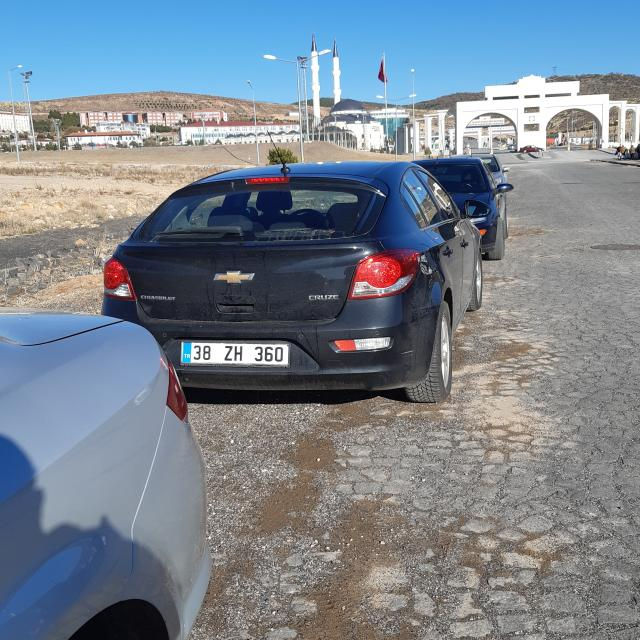license_plate: (181, 342, 289, 364)
